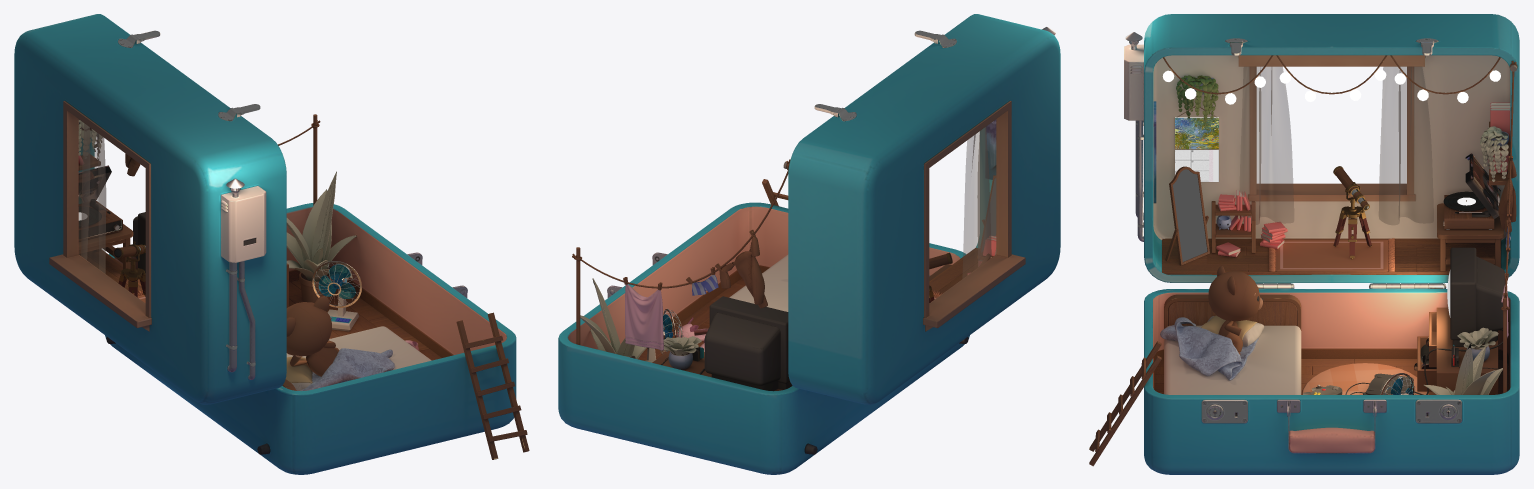
Rendered from isometric_suitcase_room_example_for_tutorial.glb.
3 renders of one model, left to right at view 1: azimuth 30°, elevation 25°; view 2: azimuth 150°, elevation 25°; view 3: azimuth 270°, elevation 25°, orthographic. The views are drawn at different scales.
Visible parts, largest first — view 1: Object_4, Object_12, Object_9, Object_13, Object_15, Object_17, Object_6, Object_18; view 2: Object_4, Object_12, Object_9, Object_15, Object_13, Object_18, Object_17, Object_8, Object_10; view 3: Object_4, Object_12, Object_9, Object_15, Object_18, Object_17, Object_13, Object_8, Object_10, Object_6, Object_7, Object_3.
Boxes of the visible parts, x1,y1,x2,y2 form: Object_4: (14, 14, 516, 474); Object_12: (79, 121, 431, 391); Object_9: (78, 165, 360, 331); Object_13: (78, 119, 356, 303); Object_15: (79, 250, 452, 360); Object_17: (78, 128, 529, 459); Object_6: (286, 296, 339, 376); Object_18: (78, 114, 320, 390); Object_4: (558, 14, 1060, 474); Object_12: (625, 120, 995, 351); Object_9: (647, 175, 994, 390); Object_15: (638, 248, 979, 360); Object_13: (580, 278, 701, 369); Object_18: (572, 159, 993, 344); Object_17: (623, 179, 788, 391); Object_8: (661, 175, 996, 364); Object_10: (985, 119, 996, 179); Object_4: (1124, 14, 1519, 474); Object_12: (1160, 66, 1516, 394); Object_9: (1169, 153, 1505, 394); Object_15: (1154, 238, 1508, 394); Object_18: (1162, 55, 1517, 393); Object_17: (1089, 121, 1512, 466); Object_13: (1176, 75, 1508, 394); Object_8: (1165, 106, 1500, 394); Object_10: (1153, 101, 1402, 382); Object_6: (1208, 266, 1263, 354); Object_7: (1216, 102, 1510, 257); Object_3: (1443, 191, 1484, 211).
Bounding box in the file's own units: 4.24 × 3.87 × 4.65.
Materials: 12 (10 with a texture image).
